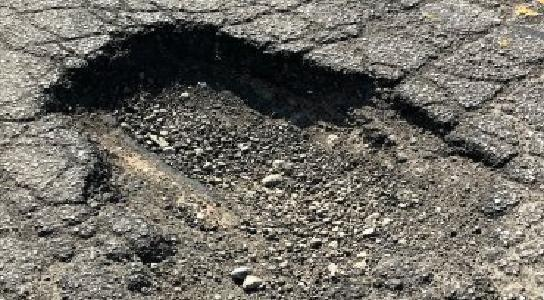pothole: (34, 18, 530, 300)
